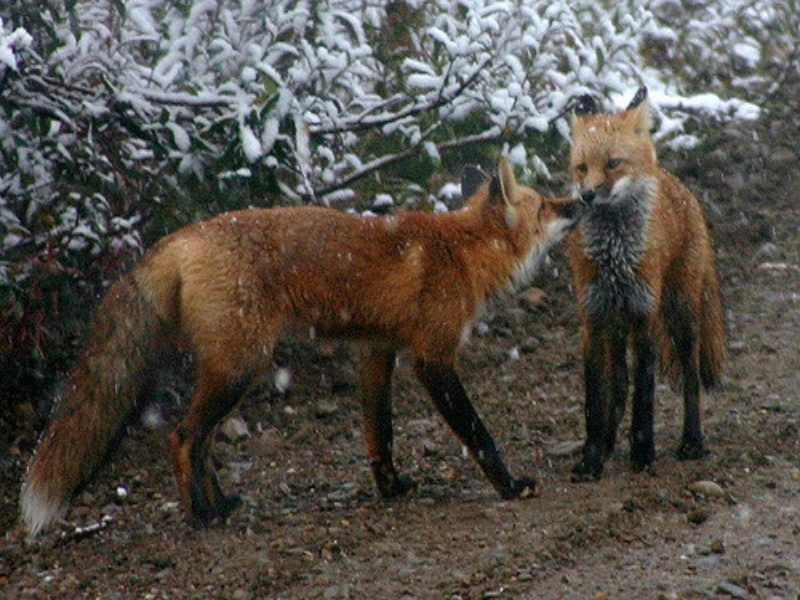fox: (16, 164, 589, 554), (564, 82, 730, 491)
